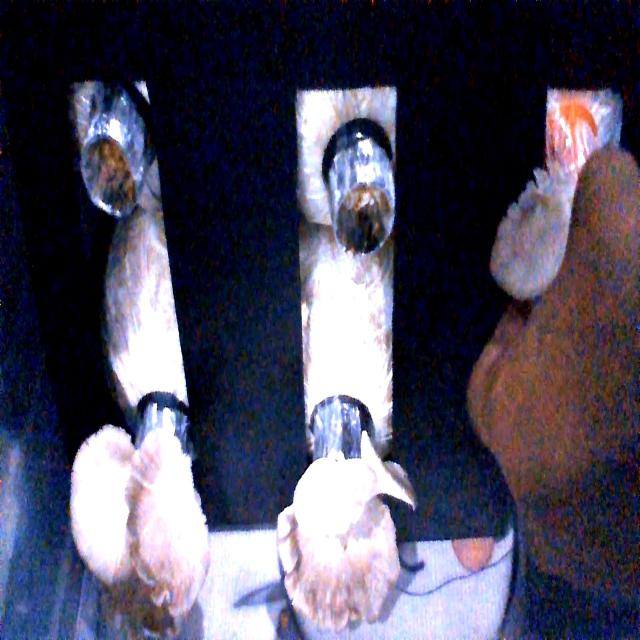big: (70, 445, 205, 603), (280, 464, 399, 610)
nfound: (71, 130, 151, 224), (331, 160, 399, 262)
